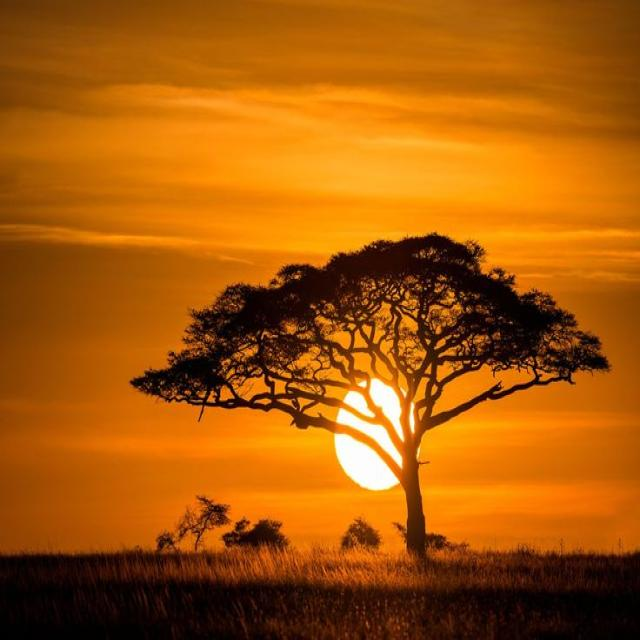Acacia: (200, 239, 589, 548)
